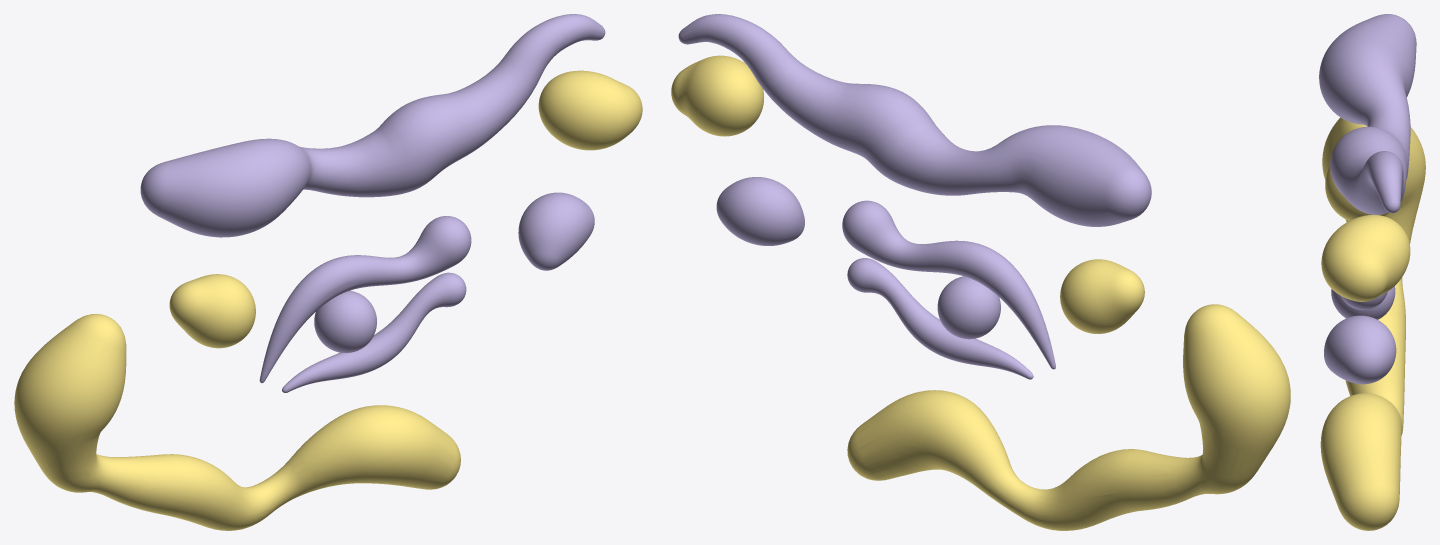
The picture shows the model from 3 angles, left to right: view 1: azimuth 30°, elevation 25°; view 2: azimuth 150°, elevation 25°; view 3: azimuth 270°, elevation 25°; orthographic projection. The views are drawn at different scales.
Visible parts, largest first — view 1: line2, line1, eye, blob3, blob1, blob2; view 2: line2, line1, eye, blob3, blob1, blob2; view 3: line1, line2, blob3, blob2, eye, blob1.
Boxes of the visible parts, x1,y1,x2,y2 form: line2: [14, 313, 460, 530]; line1: [140, 14, 605, 237]; eye: [259, 216, 471, 392]; blob3: [538, 70, 642, 150]; blob1: [169, 274, 255, 348]; blob2: [518, 192, 594, 270]; line2: [847, 304, 1290, 530]; line1: [678, 14, 1151, 226]; eye: [842, 200, 1055, 379]; blob3: [671, 55, 763, 136]; blob1: [1060, 259, 1144, 333]; blob2: [716, 177, 804, 245]; line1: [1319, 14, 1416, 214]; line2: [1320, 117, 1425, 530]; blob3: [1321, 214, 1410, 301]; blob2: [1324, 315, 1396, 384]; eye: [1331, 286, 1395, 319]; blob1: [1325, 166, 1388, 220].
Size of the model in its own units: 68.28 by 45.89 by 10.11.
